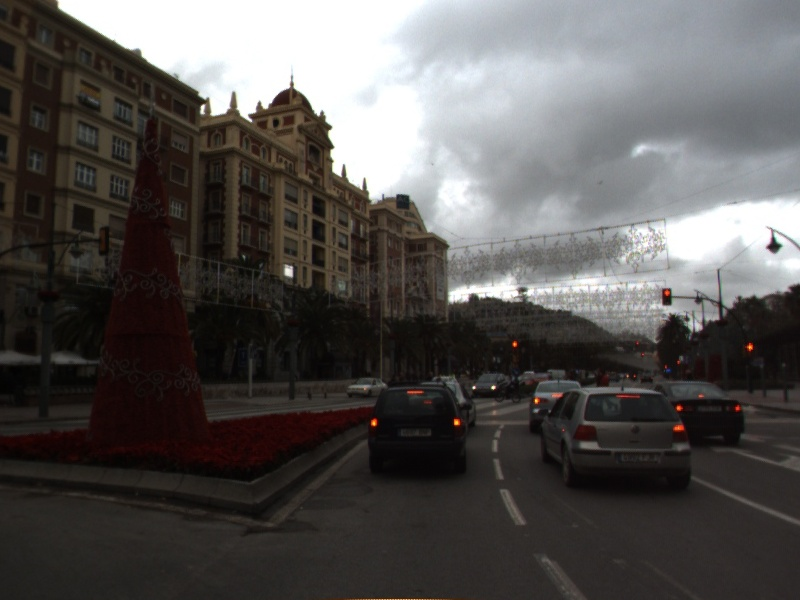STRAIGHT_RIGHT: (708, 439, 800, 477)
